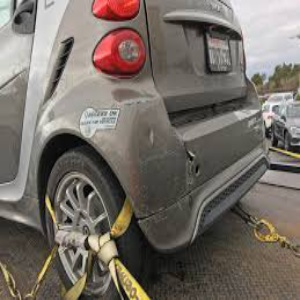bumper: (131, 130, 203, 227)
